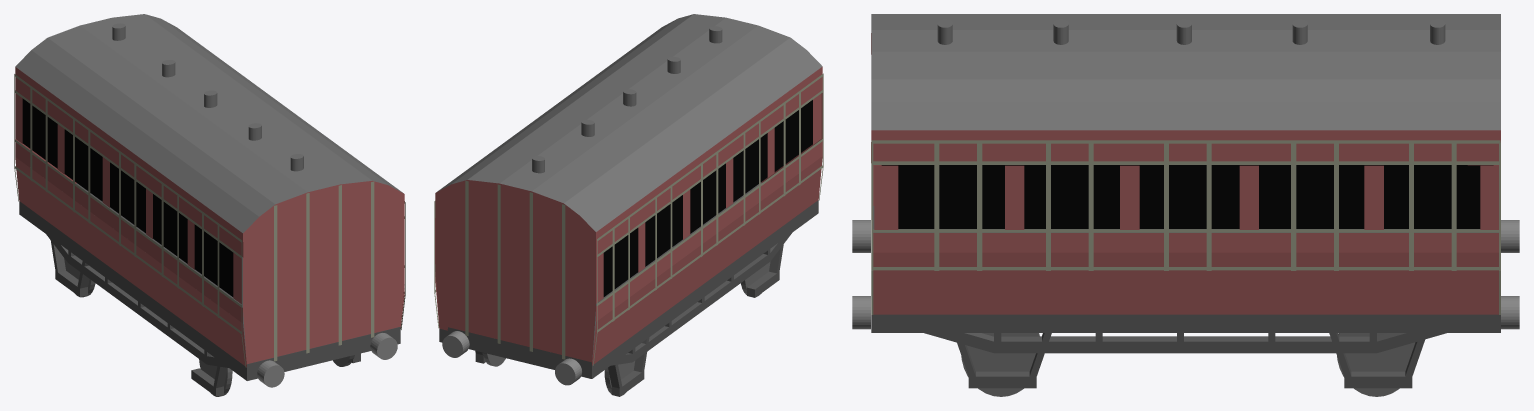
Rendered from mr-4wheel-suburban.dae.
3 renders of one model, left to right at view 1: azimuth 30°, elevation 25°; view 2: azimuth 150°, elevation 25°; view 3: azimuth 270°, elevation 25°, orthographic. The views are drawn at different scales.
Parts seen in each view (by area): view 1: Plane_083, Plane_084, Plane_001, Plane_261, Plane_251, Plane_041, Plane_226, Plane_300, Plane_262, Cube_008, Plane_315, Plane_313 (+16 smaller); view 2: Plane_083, Plane_085, Plane_001, Plane_261, Plane_251, Plane_041, Plane_226, Plane_300, Plane_262, Cube_008, Plane_315, Plane_259 (+17 smaller); view 3: Plane_001, Plane_010, Plane_086, Plane_083, Plane_041, Plane_167, Plane_006, Plane_002, Cube_035, Plane_017, Plane_314, Plane_311 (+28 smaller).
Boxes of the visible parts, box(x1,y1,x2,y2) form: Plane_083: box(15, 21, 323, 232); Plane_084: box(243, 181, 404, 364); Plane_001: box(96, 14, 403, 193); Plane_261: box(15, 157, 246, 367); Plane_251: box(22, 98, 233, 296); Plane_041: box(19, 183, 400, 380); Plane_226: box(15, 142, 242, 323); Plane_300: box(26, 85, 243, 257); Plane_262: box(15, 67, 242, 241); Cube_008: box(68, 255, 206, 364); Plane_315: box(14, 74, 242, 242); Plane_313: box(14, 165, 242, 334); Plane_083: box(516, 21, 822, 231); Plane_085: box(435, 180, 595, 363); Plane_001: box(436, 14, 741, 192); Plane_261: box(592, 156, 822, 365); Plane_251: box(603, 100, 812, 296); Plane_041: box(439, 182, 818, 378); Plane_226: box(596, 141, 822, 321); Plane_300: box(606, 77, 822, 247); Plane_262: box(596, 66, 822, 240); Cube_008: box(632, 253, 770, 361); Plane_315: box(597, 73, 823, 241); Plane_259: box(597, 90, 823, 257); Plane_001: box(871, 41, 1500, 130); Plane_010: box(873, 252, 1498, 314); Plane_086: box(881, 165, 1493, 228); Plane_083: box(871, 14, 1500, 40); Plane_041: box(871, 206, 1500, 332); Plane_167: box(873, 233, 1498, 252); Plane_006: box(871, 142, 1471, 162); Plane_002: box(871, 130, 1500, 141); Cube_035: box(994, 336, 1376, 353); Plane_017: box(871, 267, 1498, 270); Plane_314: box(871, 140, 1500, 143); Plane_311: box(873, 161, 1498, 164).
Size of the model in its own units: 2.02 by 5.18 by 2.82.
